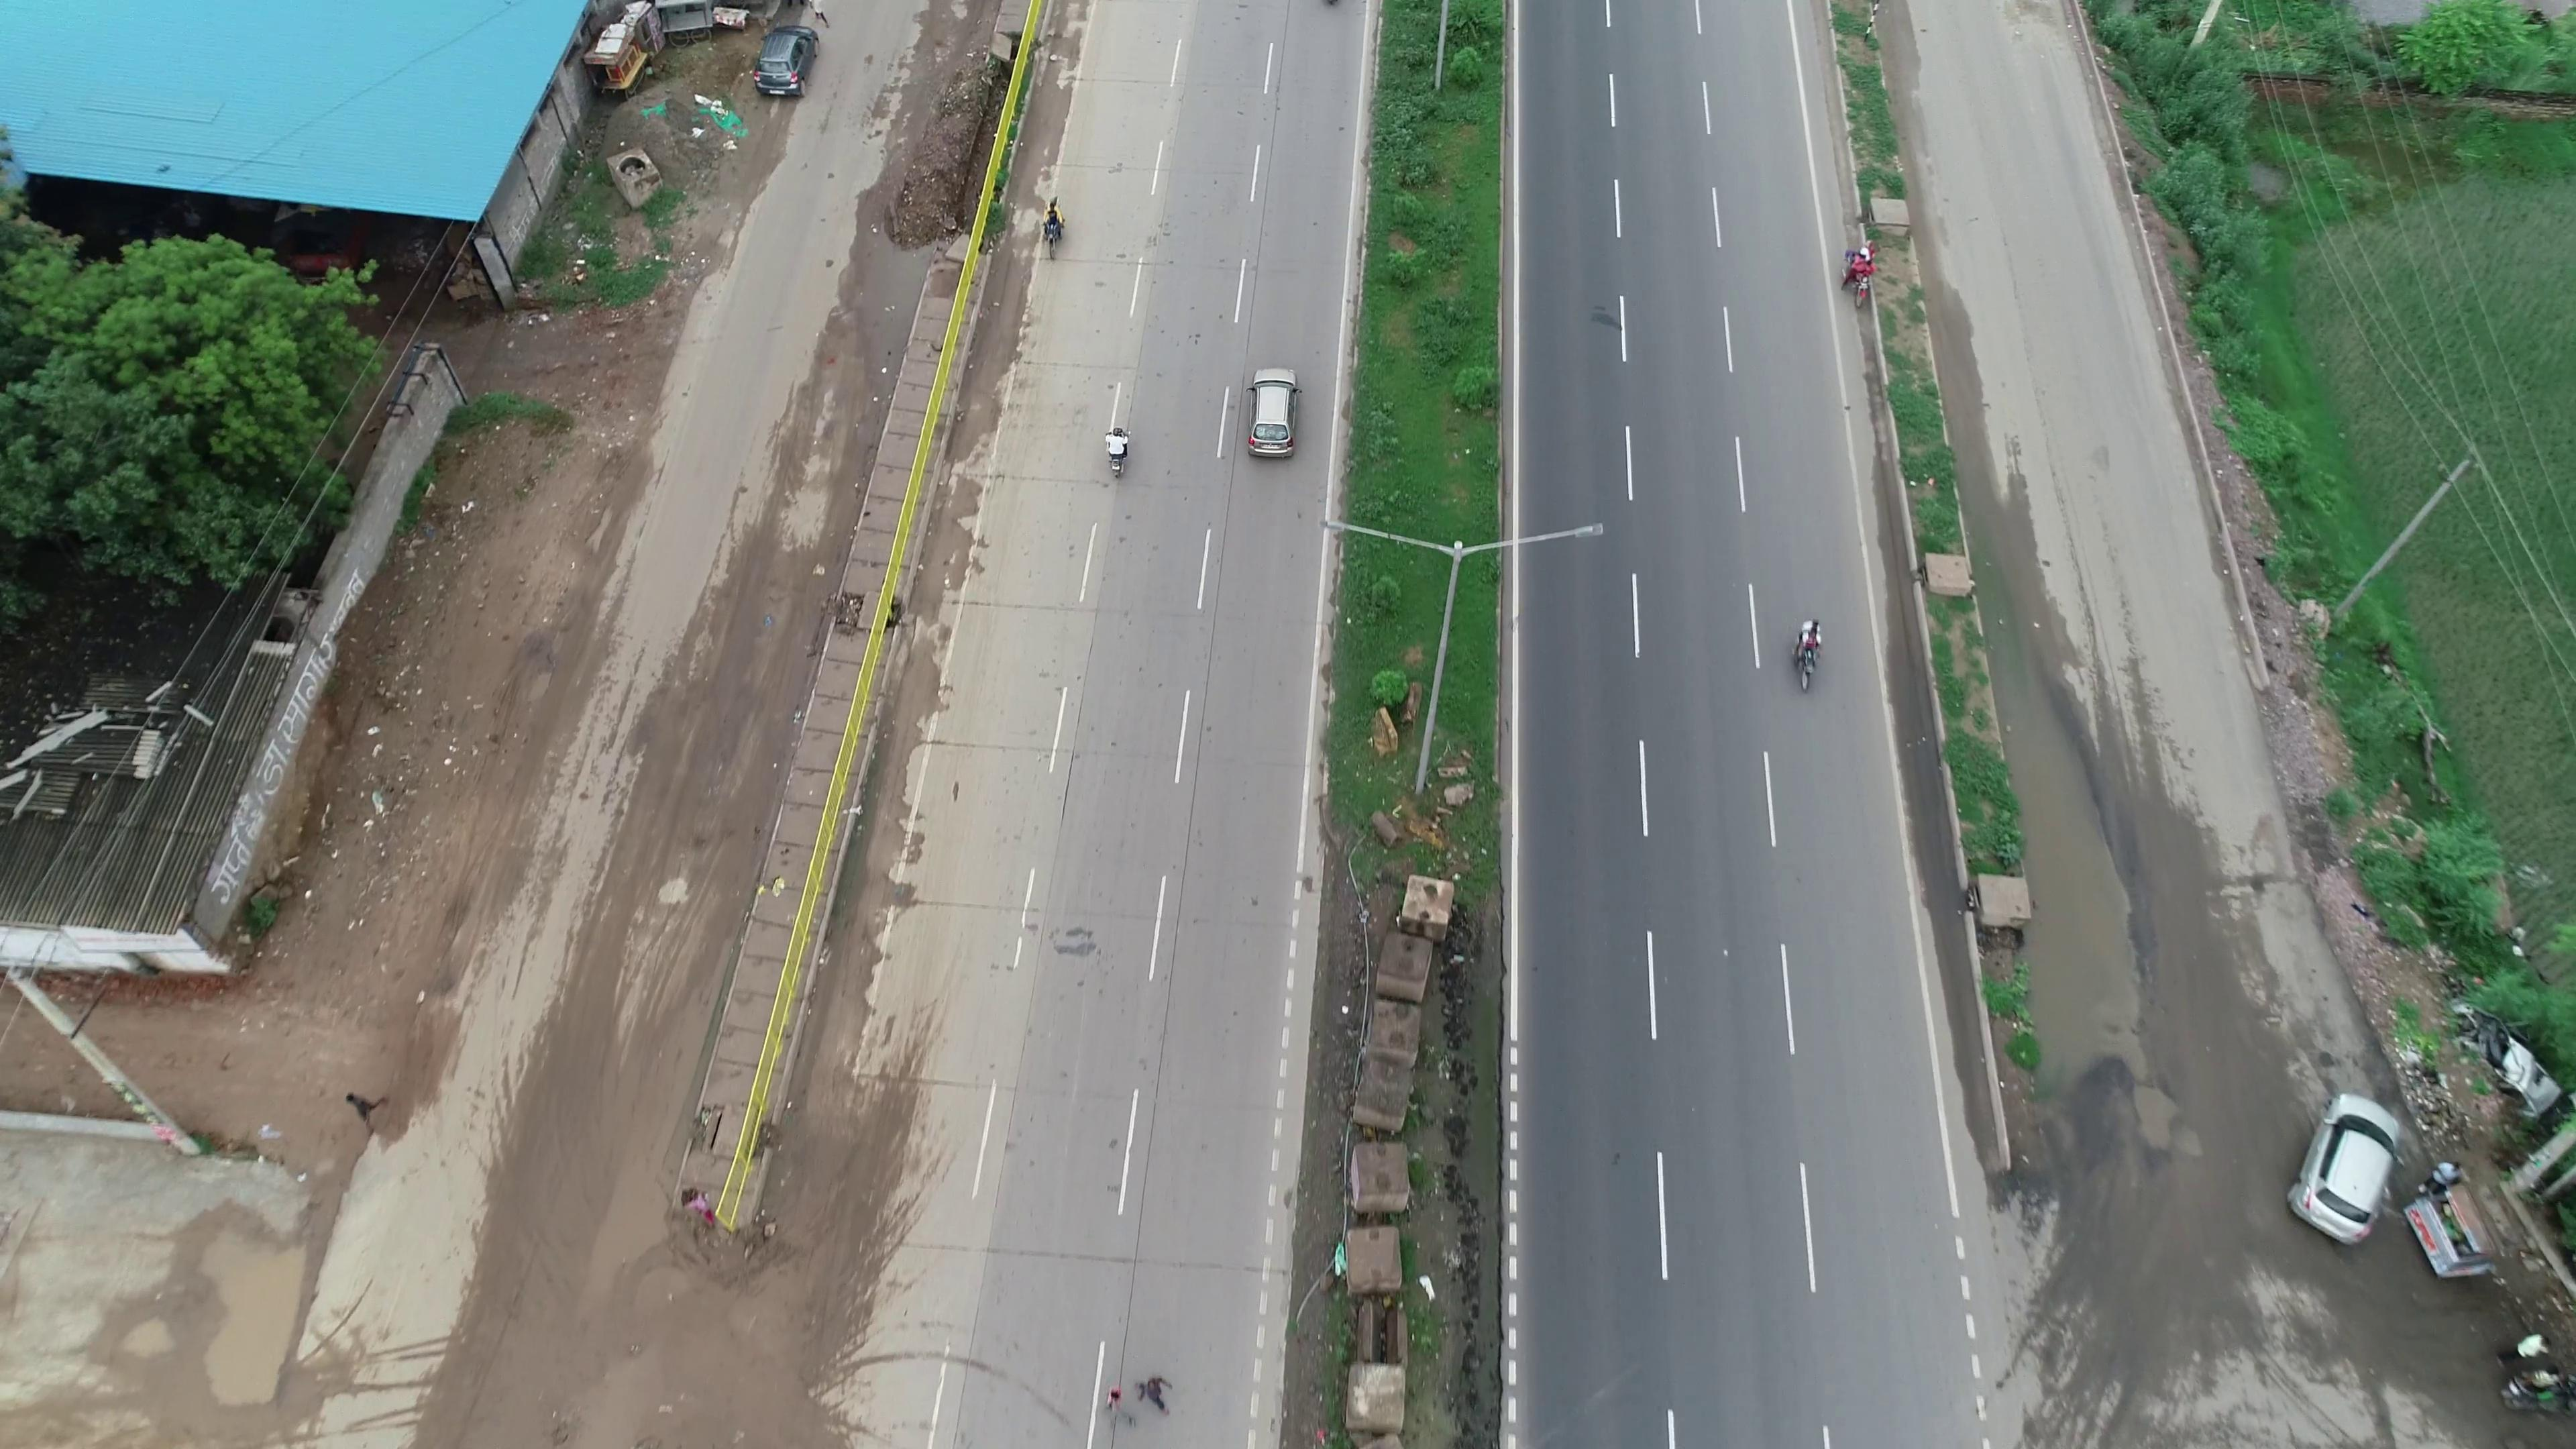Muddy_road: (593, 619, 782, 911)
Waterlogging: (2005, 665, 2178, 1115)
